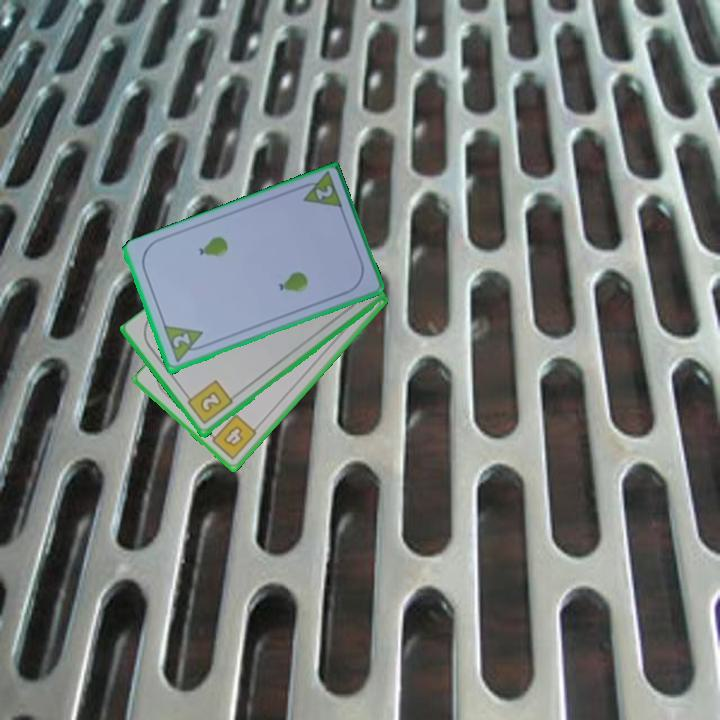2b: (182, 377, 236, 427)
2p: (294, 169, 346, 213), (169, 330, 193, 351)
4b: (205, 410, 260, 463)
